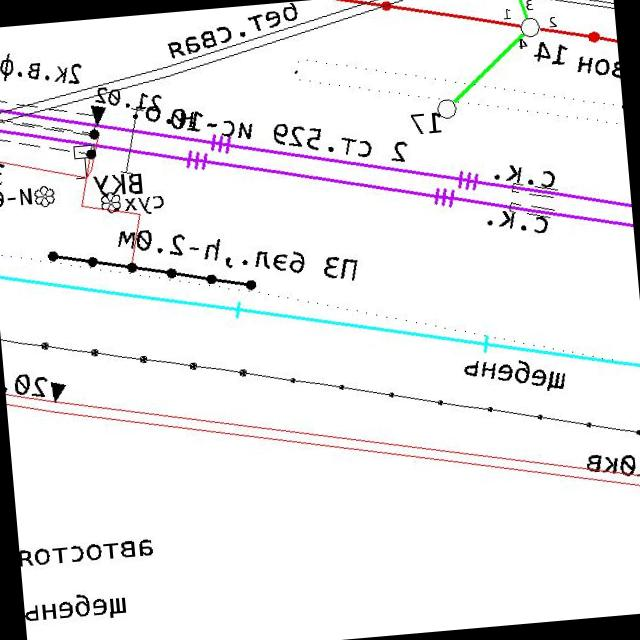bushes: (32, 182, 56, 208), (98, 190, 122, 214)
mark: (48, 378, 68, 404), (89, 102, 108, 126)
sing: (70, 142, 99, 181)
well: (516, 14, 542, 40), (435, 96, 459, 121)
